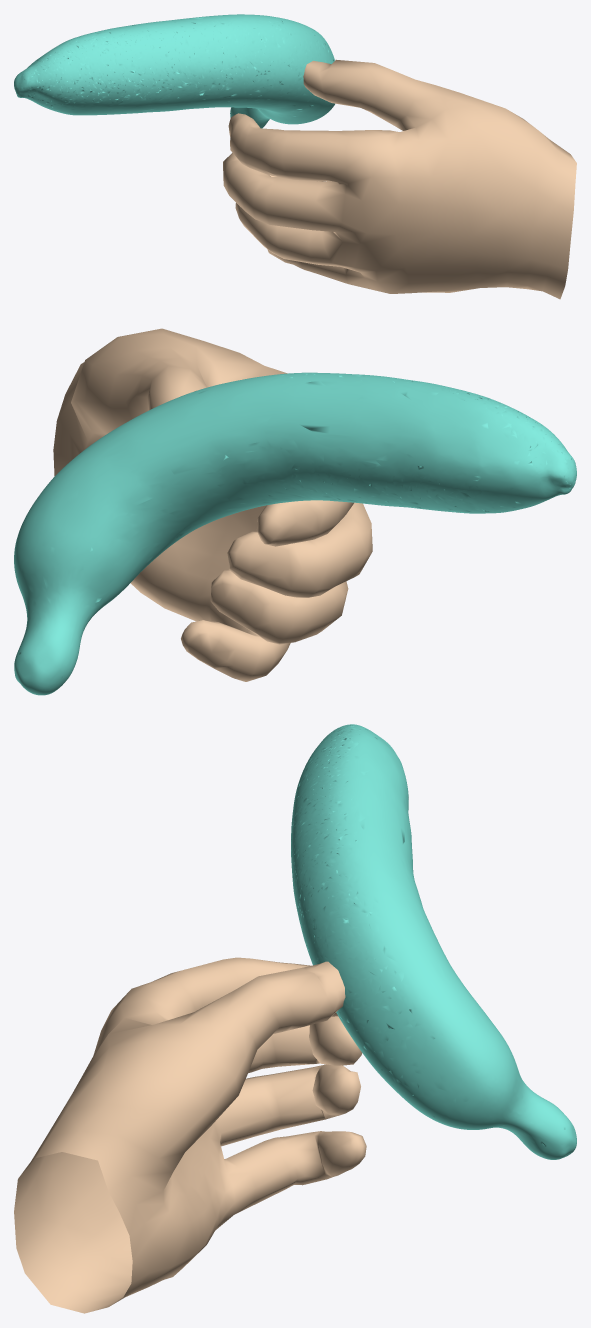
3 renders of one model, top to bottom at view 1: azimuth 30°, elevation 25°; view 2: azimuth 150°, elevation 25°; view 3: azimuth 270°, elevation 25°, orthographic. The views are drawn at different scales.
Parts seen in each view (by area): view 1: hand, world; view 2: world, hand; view 3: hand, world.
Boxes of the visible parts, left/top/right/bottom form: hand: left=223, top=59, right=576, bottom=299; world: left=14, top=14, right=334, bottom=128; world: left=14, top=372, right=576, bottom=695; hand: left=53, top=328, right=372, bottom=681; hand: left=14, top=957, right=366, bottom=1313; world: left=291, top=724, right=576, bottom=1159.
Size of the model in its own units: 0.229 by 0.1266 by 0.186.
